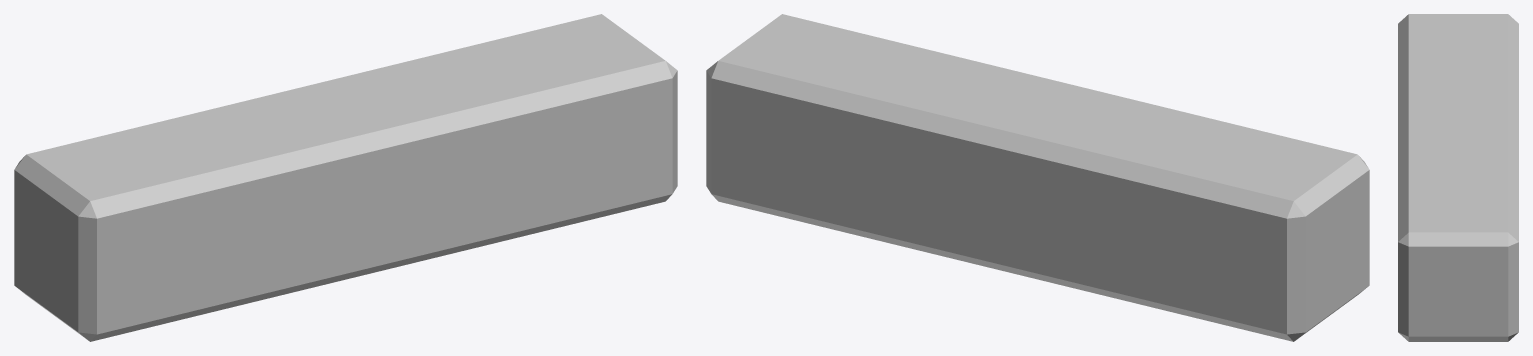
Rendered from Floor (Border).fbx.
3 renders of one model, left to right at view 1: azimuth 30°, elevation 25°; view 2: azimuth 150°, elevation 25°; view 3: azimuth 270°, elevation 25°, orthographic. The views are drawn at different scales.
Parts seen in each view (by area): view 1: Floor (Border); view 2: Floor (Border); view 3: Floor (Border).
Part boxes in pixels (bbox=[...]): Floor (Border): bbox=[14, 14, 677, 341]; Floor (Border): bbox=[706, 14, 1369, 341]; Floor (Border): bbox=[1398, 14, 1518, 341].
Bounding box in the file's own units: 231 × 51.92 × 51.92.
